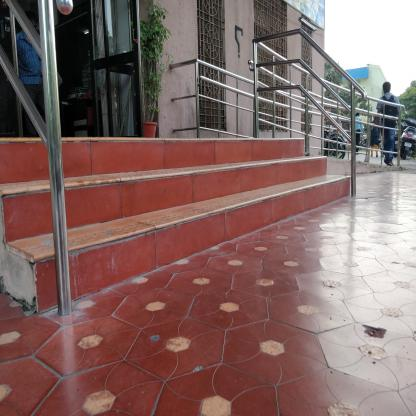stairs: (80, 145, 258, 303)
